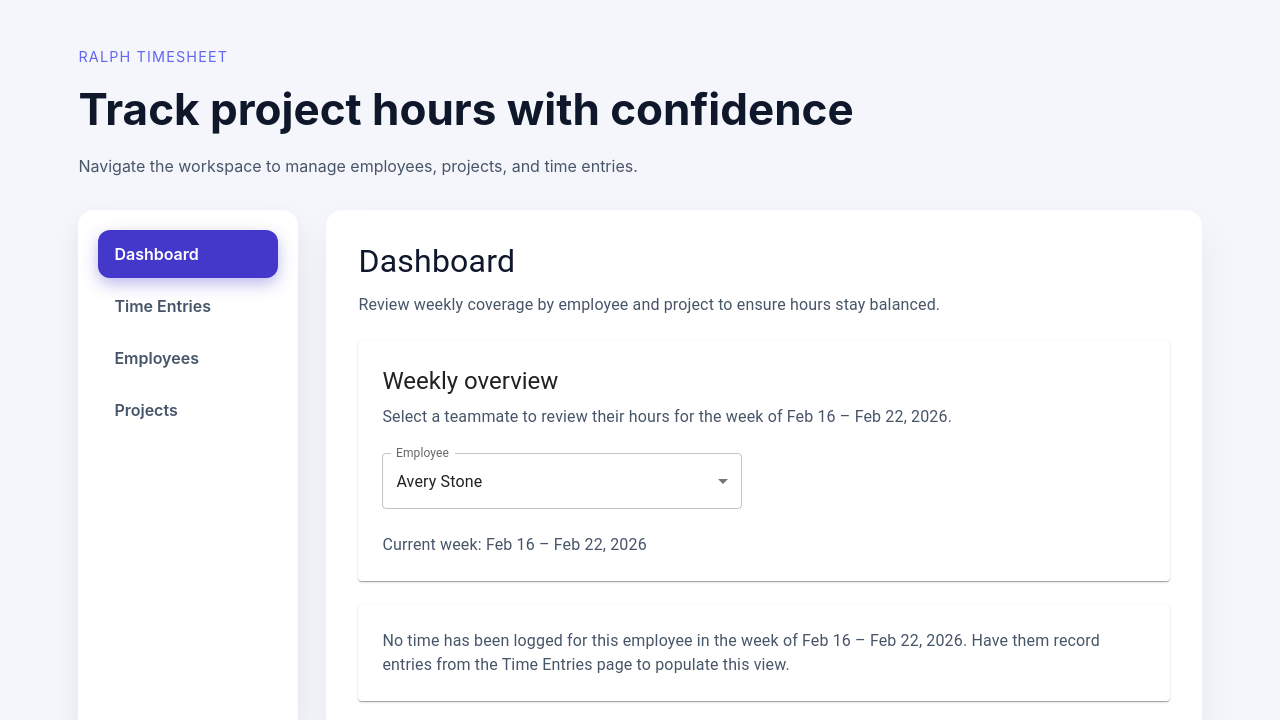
Scenario: App shell navigation › renders nav links and navigates between placeholder pages
The width and height of the screenshot is (1280, 720).
expect the link "Dashboard" is shown: met, box [98, 230, 278, 278]
expect the link "Employees" is shown: met, box [114, 348, 199, 368]
Step 1. Click the link "Time Entries" → (163, 306), box [114, 296, 211, 316]
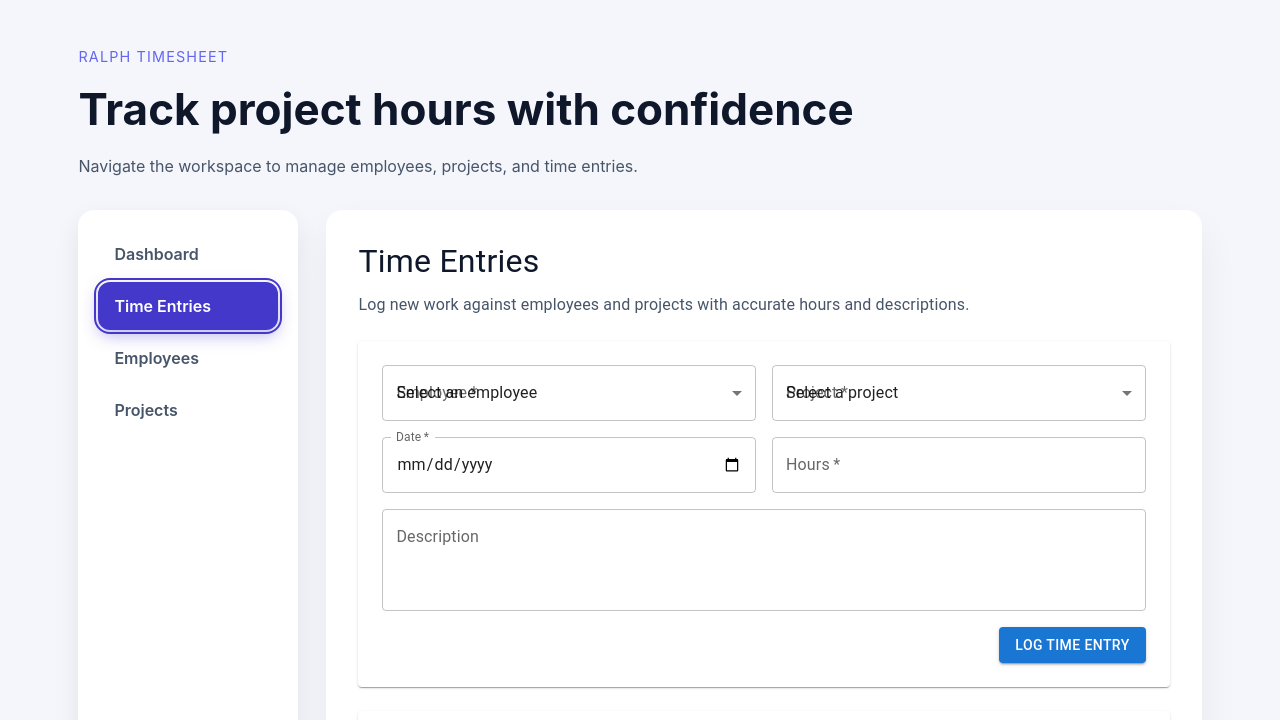
expect the heading "Time Entries" is shown: met, box [358, 242, 540, 280]
